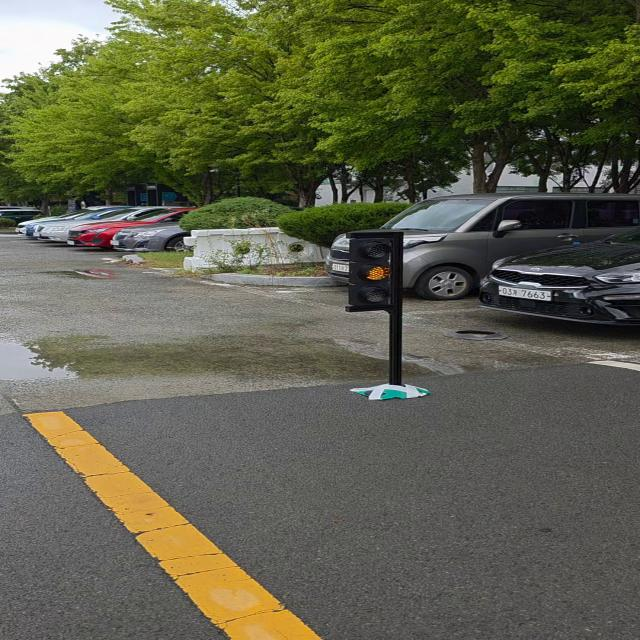yellow: (349, 233, 398, 310)
